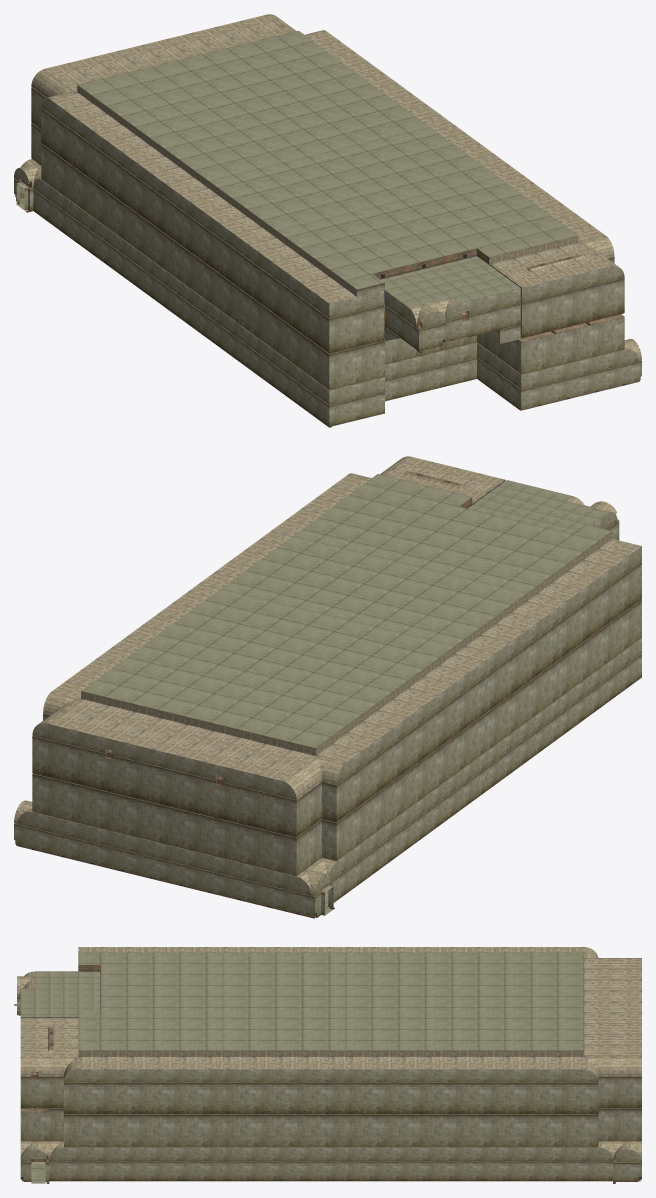
Rendered from poi_all_bunker_mad_bio_s01_r42_grandcageroom_mesh_r42.fbx.
3 views of the same model, one above another, from view 1: azimuth 30°, elevation 25°; view 2: azimuth 150°, elevation 25°; view 3: azimuth 270°, elevation 25° (orthographic). The views are drawn at different scales.
Parts seen in each view (by area): view 1: mesh_node; view 2: mesh_node; view 3: mesh_node.
Boxes of the visible parts, x1,y1,x2,y2 form: mesh_node: (14,14,641,427); mesh_node: (14,456,641,918); mesh_node: (14,947,641,1183).
Size of the model in its own units: 42 by 18.1 by 86.9.
